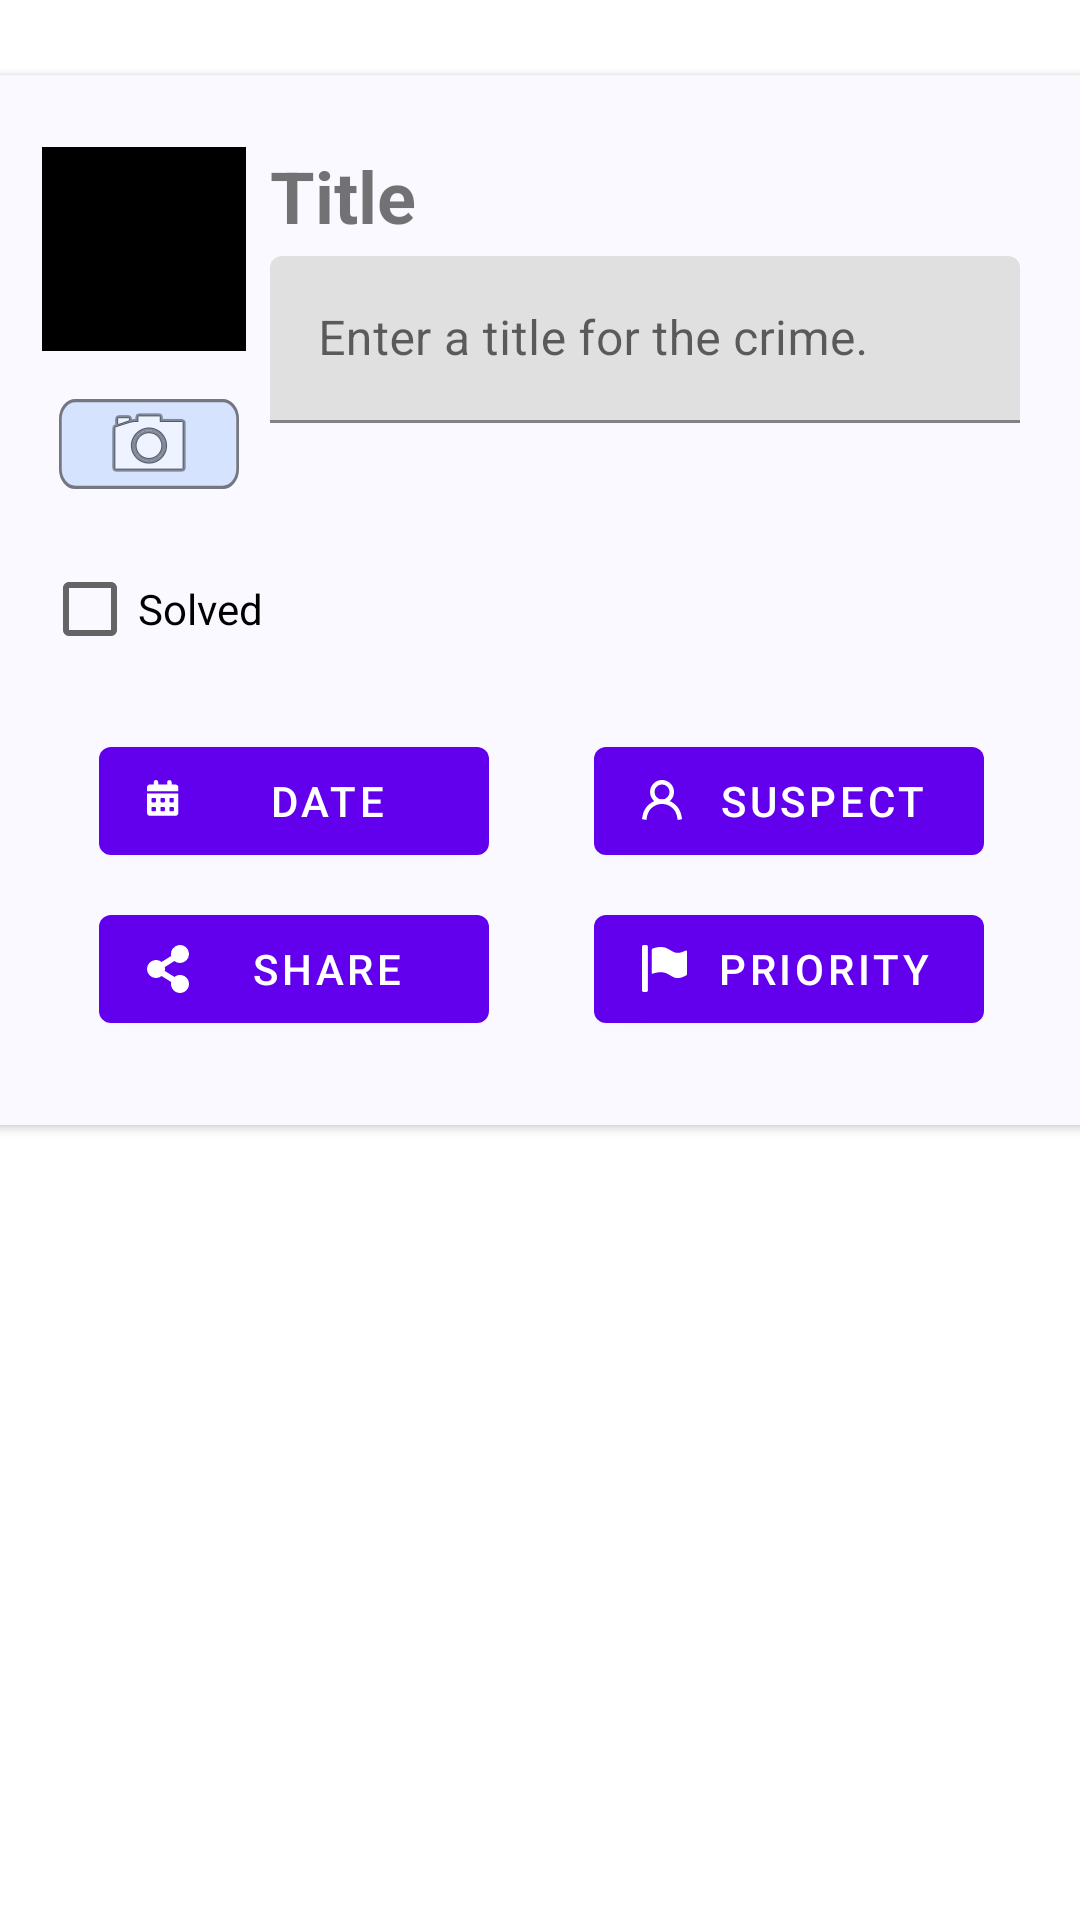

Icons on this 1080px x 1920px Android screen, each with the point to tap as point (x, y):
camera: point (149, 444)
